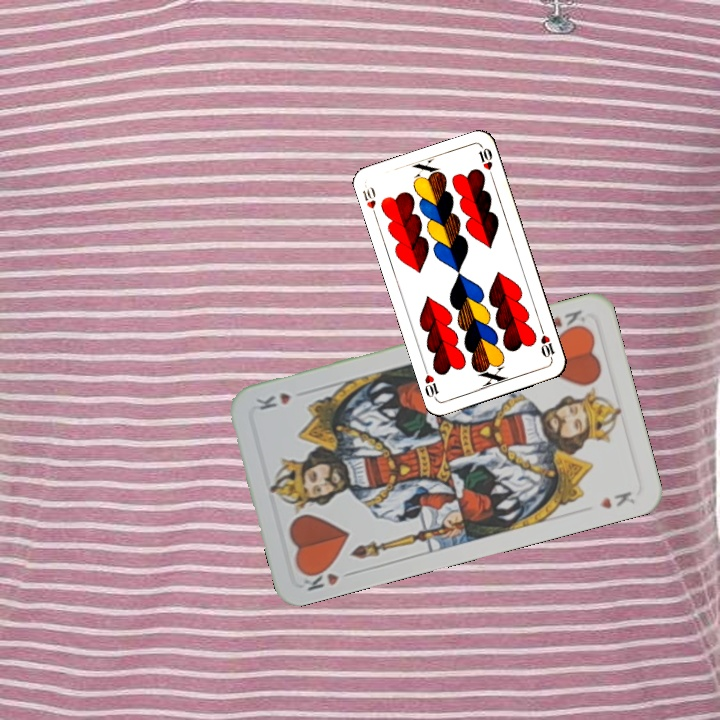H10: (536, 323, 558, 363), (358, 183, 380, 222)
HK: (297, 561, 342, 594), (546, 306, 589, 337)
